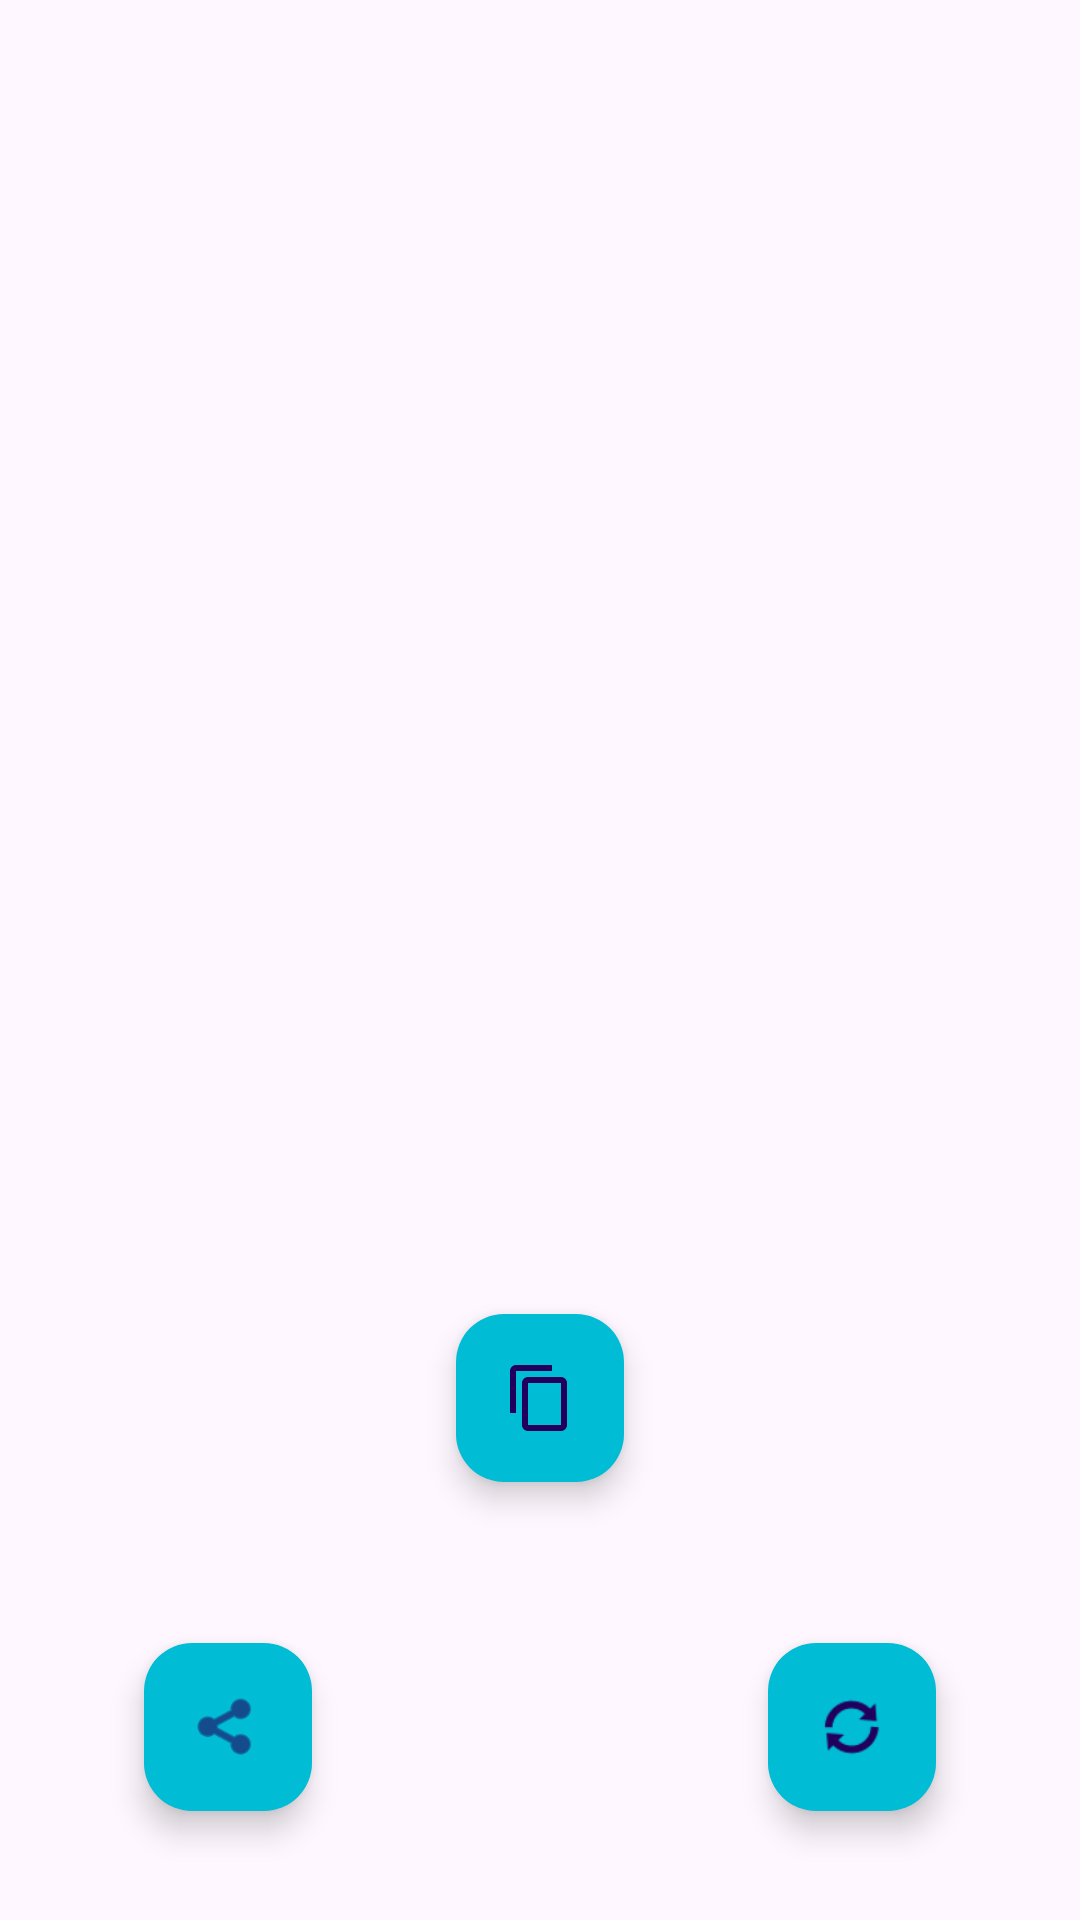

Named icons in this screenshot (1080px x 1920px) and their bounding boxes, (x1, y1, x2, y2):
popup sync: (768, 1643, 936, 1811)
share: (144, 1643, 312, 1811)
